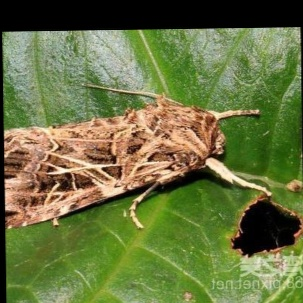Spodoptera litura: (4, 82, 272, 230)
